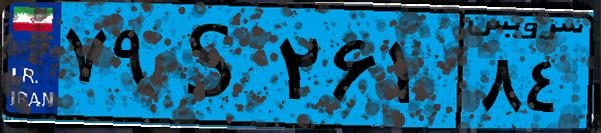1: (385, 28, 445, 110)
2: (270, 28, 330, 110)
4: (525, 38, 570, 115)
6: (330, 28, 385, 110)
7: (57, 26, 110, 100)
8: (475, 38, 525, 113)
9: (110, 28, 158, 98)
S: (158, 12, 270, 120)
